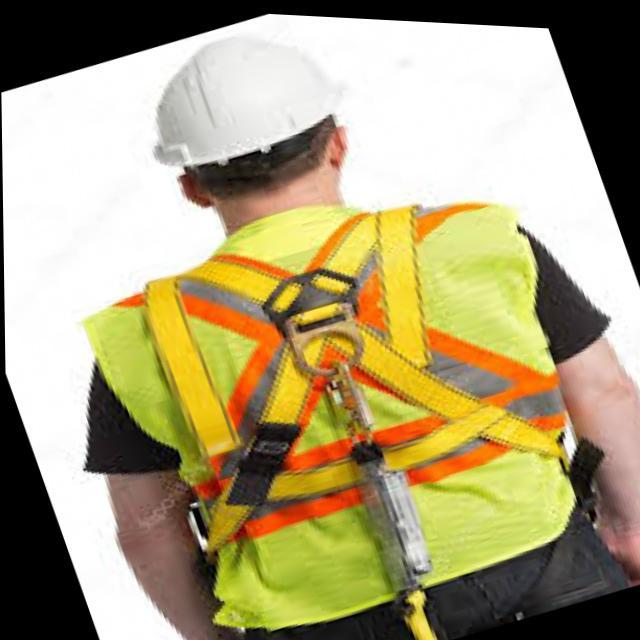belt: (107, 164, 561, 576)
